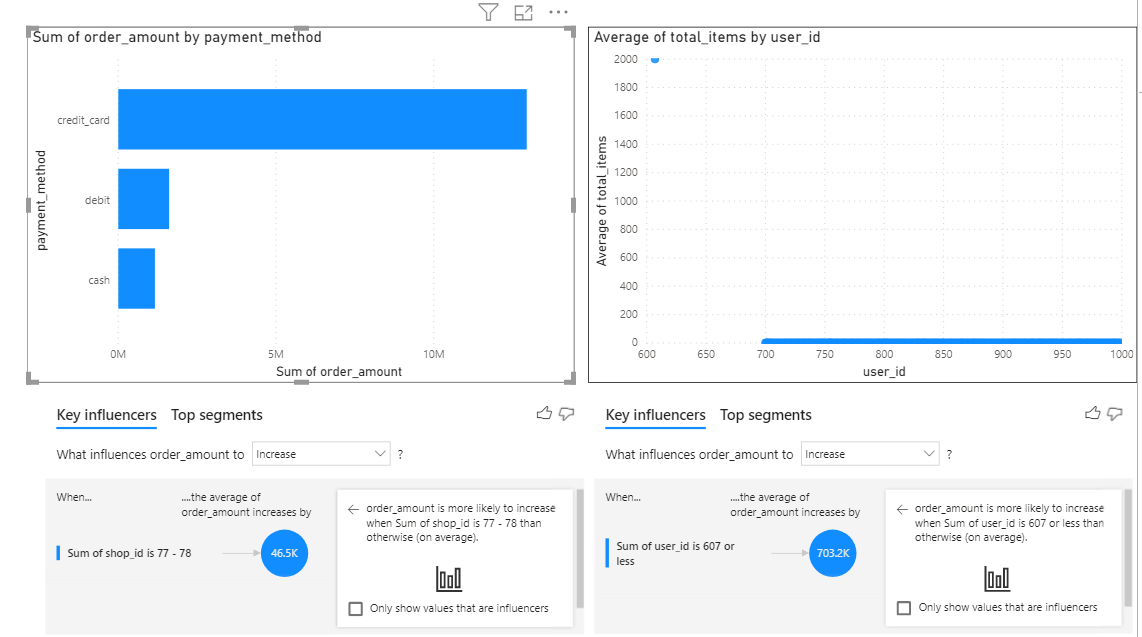

The page's visual inventory and layout, read from the dashboard file:
{"tool":"powerbi","page":{"name":"Basic Influencers","canvas":[1280,720],"ordinal":0},"visuals":[{"type":"barChart","fields":{"Category":["Sheet1.payment_method"],"Y":["Sum(Sheet1.order_amount)"]},"box":[60.4,48.1,601.5,391.4],"z":0},{"type":"scatterChart","fields":{"X":["Sheet1.user_id"],"Y":["Avg(Sheet1.total_items)"]},"box":[677.1,48.1,602.9,391.4],"z":1000},{"type":"keyDriversVisual","fields":{"Target":["Sheet1.order_amount"],"ExplainBy":["Sum(Sheet1.shop_id)"]},"box":[76,449,602,271],"z":2000},{"type":"keyDriversVisual","fields":{"Target":["Sheet1.order_amount"],"ExplainBy":["Sum(Sheet1.user_id)"]},"box":[678.5,449.1,601.5,270.6],"z":3000}]}

Visuals, with their boxes in screenshot pixels (x1, y1, x2, y2), scaled from the page's 1280x720 canvas onto the 1142x637 screenshot:
barChart - Sheet1.payment_method x Sum(Sheet1.order_amount): 54/43/591/389
scatterChart - Sheet1.user_id x Avg(Sheet1.total_items): 604/43/1141/389
keyDriversVisual - Sheet1.order_amount x Sum(Sheet1.shop_id): 68/397/605/636
keyDriversVisual - Sheet1.order_amount x Sum(Sheet1.user_id): 605/397/1141/636
